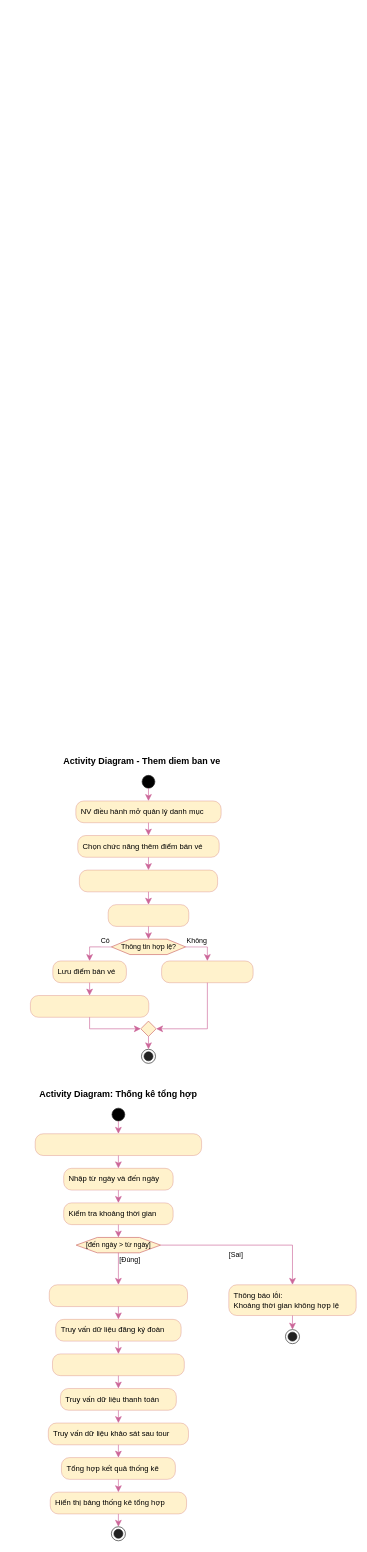
The diagram is 367 pixels wide and 1552 high, and some of its shapes have lost their labels. The box of each missing label's shape, as (x1, y1, x2, y2) in pixels:
Kiểm tra thông tin: (108, 904, 189, 926)
Kế toán mở chức năng thống kê tổng hợp: (35, 1133, 201, 1155)
Nhập mã, tên, địa chỉ, điện thoại: (79, 870, 217, 892)
Thông báo lỗi dữ liệu: (161, 961, 253, 983)
Thông báo thêm thành công: (30, 995, 149, 1017)
Truy vấn dữ liệu phiếu hủy đoàn: (52, 1353, 184, 1376)
Truy vấn dữ liệu đăng ký khách lẻ: (49, 1284, 187, 1306)
